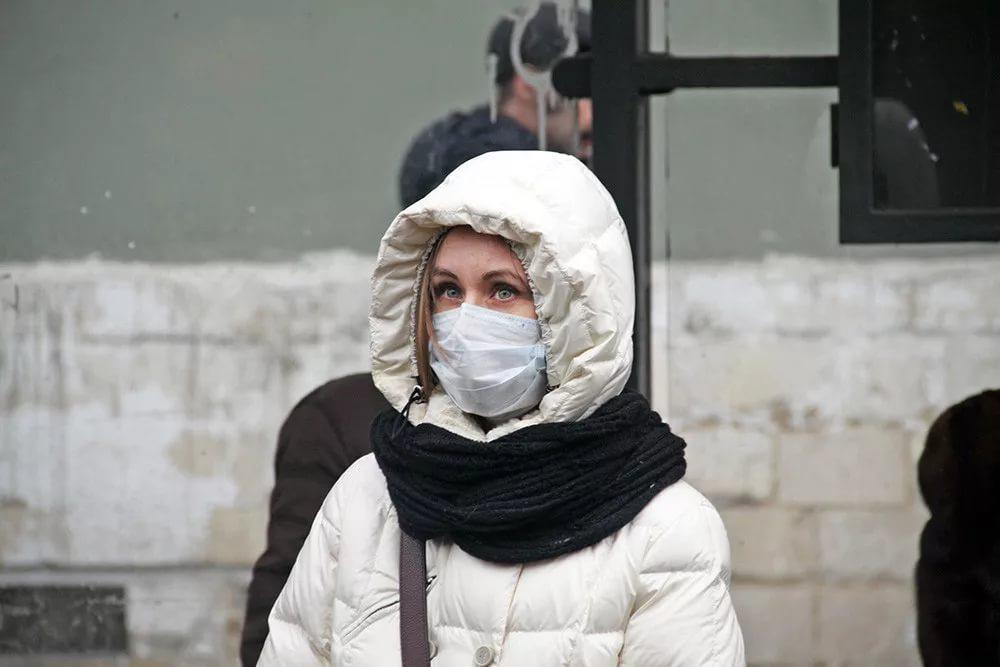mask: (413, 238, 551, 415)
